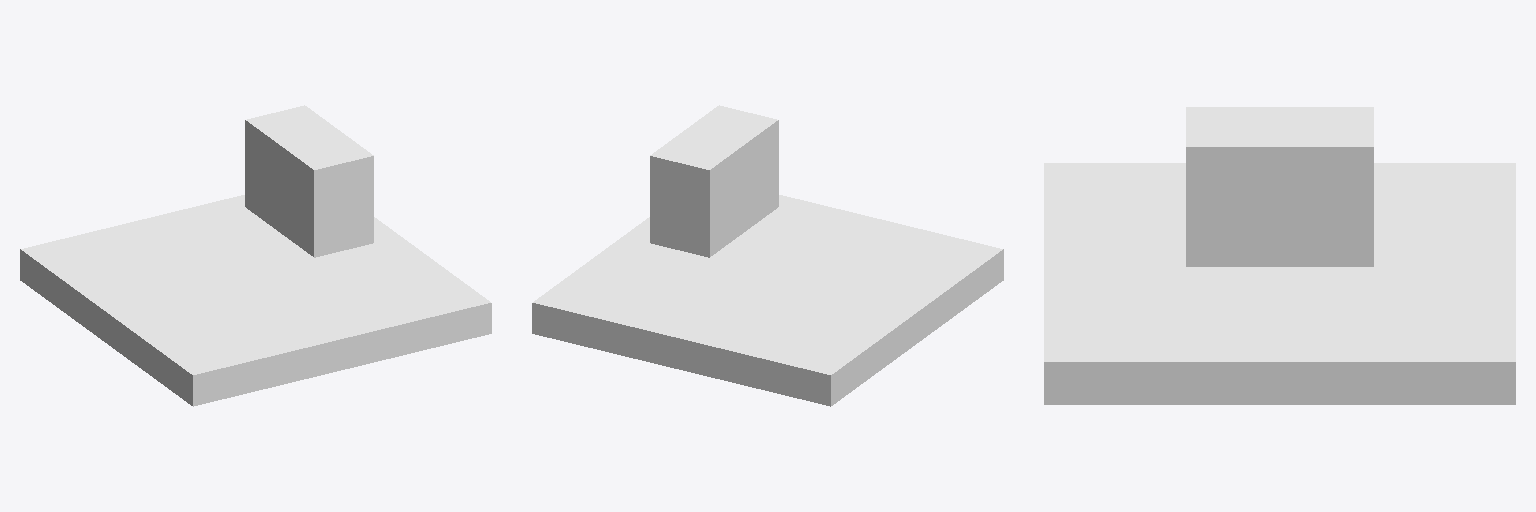
robot.urdf — scene_wall2:
<robot name="scene_wall2">
  <link name="base_link">
    <visual>
      <origin xyz="0 0 0" rpy="0 0 0" />
      <geometry>
        <mesh filename="package://hpp-rbprm-corba/meshes/ground_table2.stl"/>
      </geometry>
      <material name="white">
        <color rgba="1 1 1 1"/>
      </material>
    </visual>
    <collision>
      <origin xyz="0 0 0" rpy="0 0 0" />
      <geometry>
        <mesh filename="package://hpp-rbprm-corba/meshes/ground_table2.stl"/>
      </geometry>
    </collision>
  </link>
</robot>

--- Render facts (derived) ---
3 views of the same robot in one strip: view 1: azimuth 30°, elevation 25°; view 2: azimuth 150°, elevation 25°; view 3: azimuth 270°, elevation 25° (orthographic).
Robot: scene_wall2 — 1 links, 0 joints (none); root link base_link; default pose: every joint at zero.
Links seen in each view (by area): view 1: base_link; view 2: base_link; view 3: base_link.
Boxes of the visible links, x1,y1,x2,y2 form: base_link: [20, 105, 491, 406]; base_link: [532, 105, 1003, 406]; base_link: [1044, 107, 1515, 404].
Size in the robot's own frame: 5 by 5 by 2.5 metres.
1 mesh visuals loaded from 1 distinct referenced files (1 binary STL).